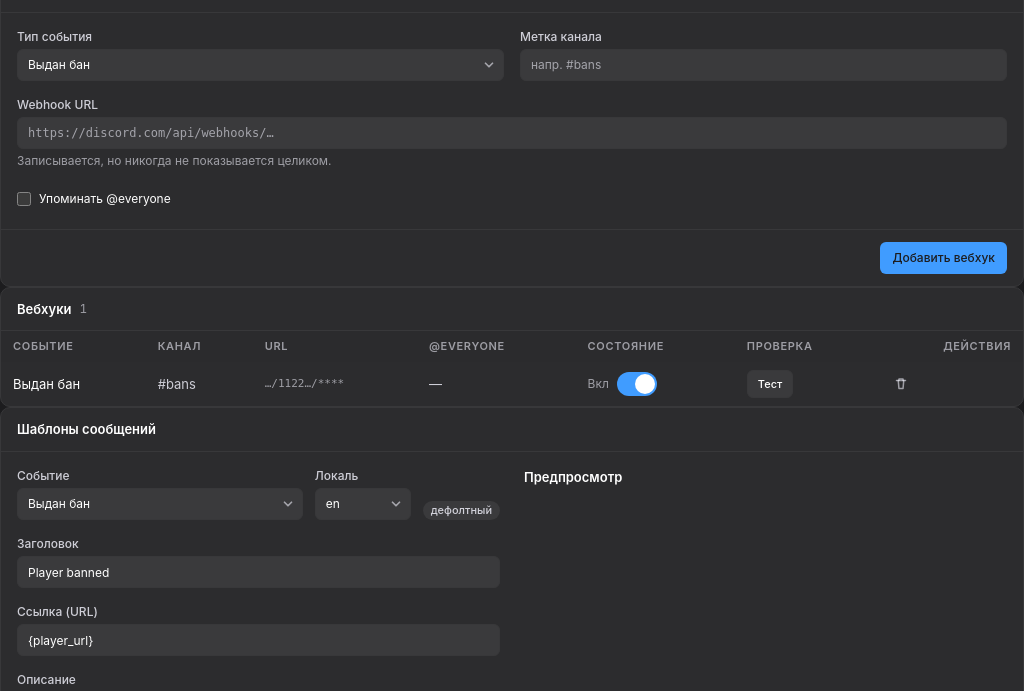
Тест button › shows the unreachable message when the webhook cannot be reached
(page scrolled)
Click the button "Тест": click(770, 384) [747, 370, 793, 398]
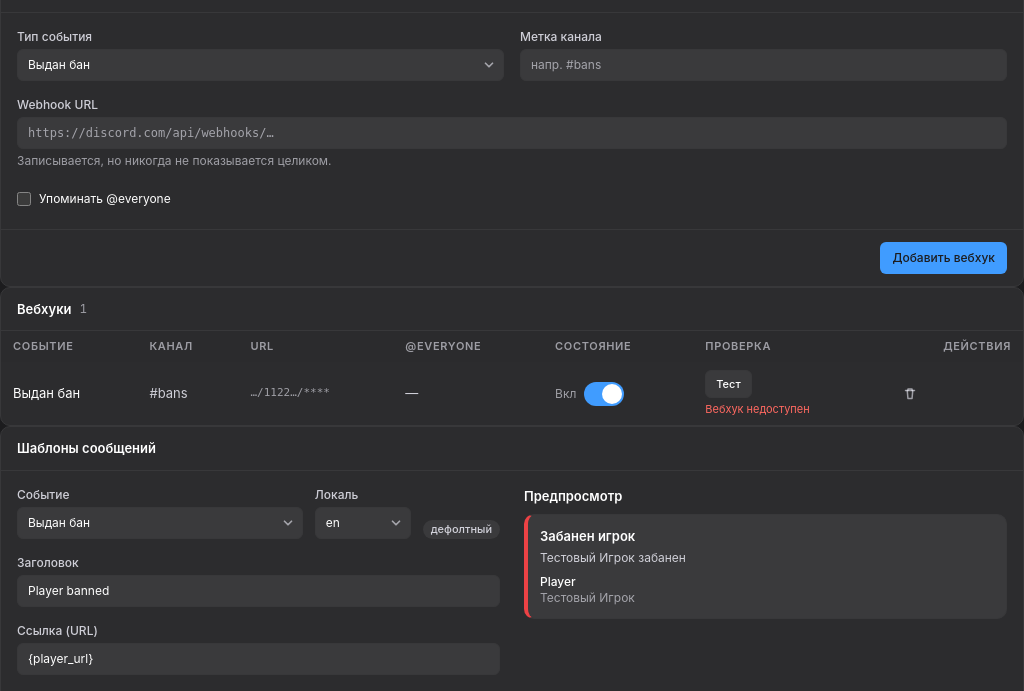
Now the text "Вебхук недоступен" is shown, box [705, 402, 810, 417]
